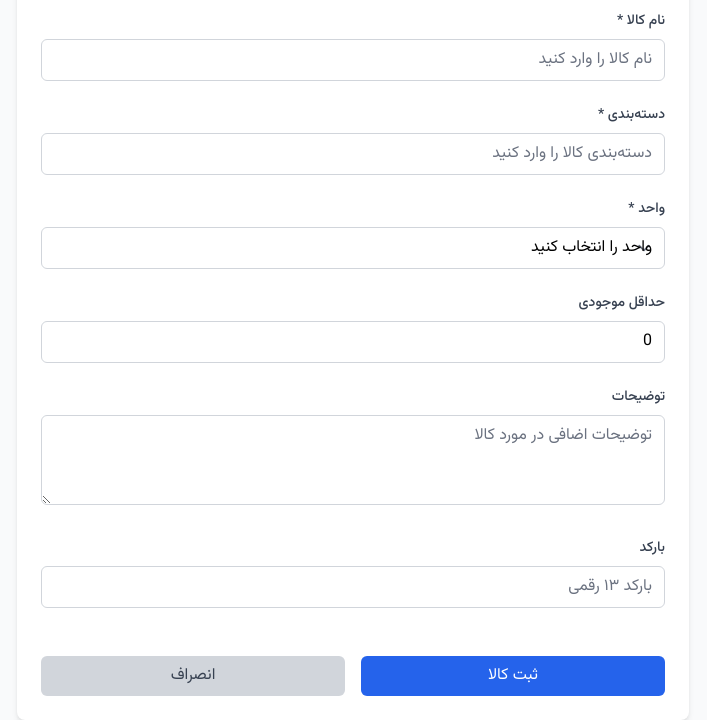
ItemForm Component › Create Mode › should validate required fields
(page scrolled)
Click the button "ثبت کالا". click: point(513, 676)
box: [361, 656, 665, 696]
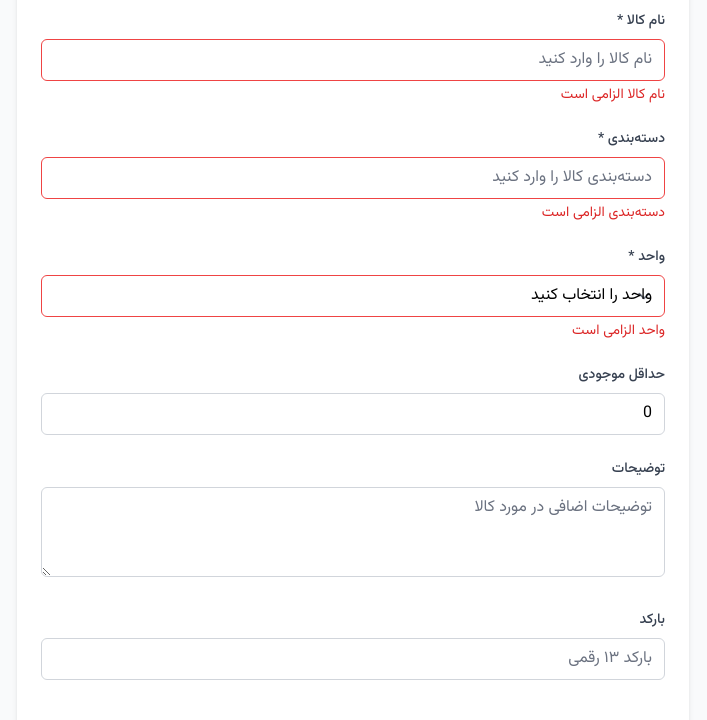
expect the text "نام کالا الزامی است" is shown: met, box [561, 84, 665, 106]
expect the text "دسته‌بندی الزامی است" is shown: met, box [542, 202, 665, 224]
expect the text "واحد الزامی است" is shown: met, box [572, 320, 665, 342]
